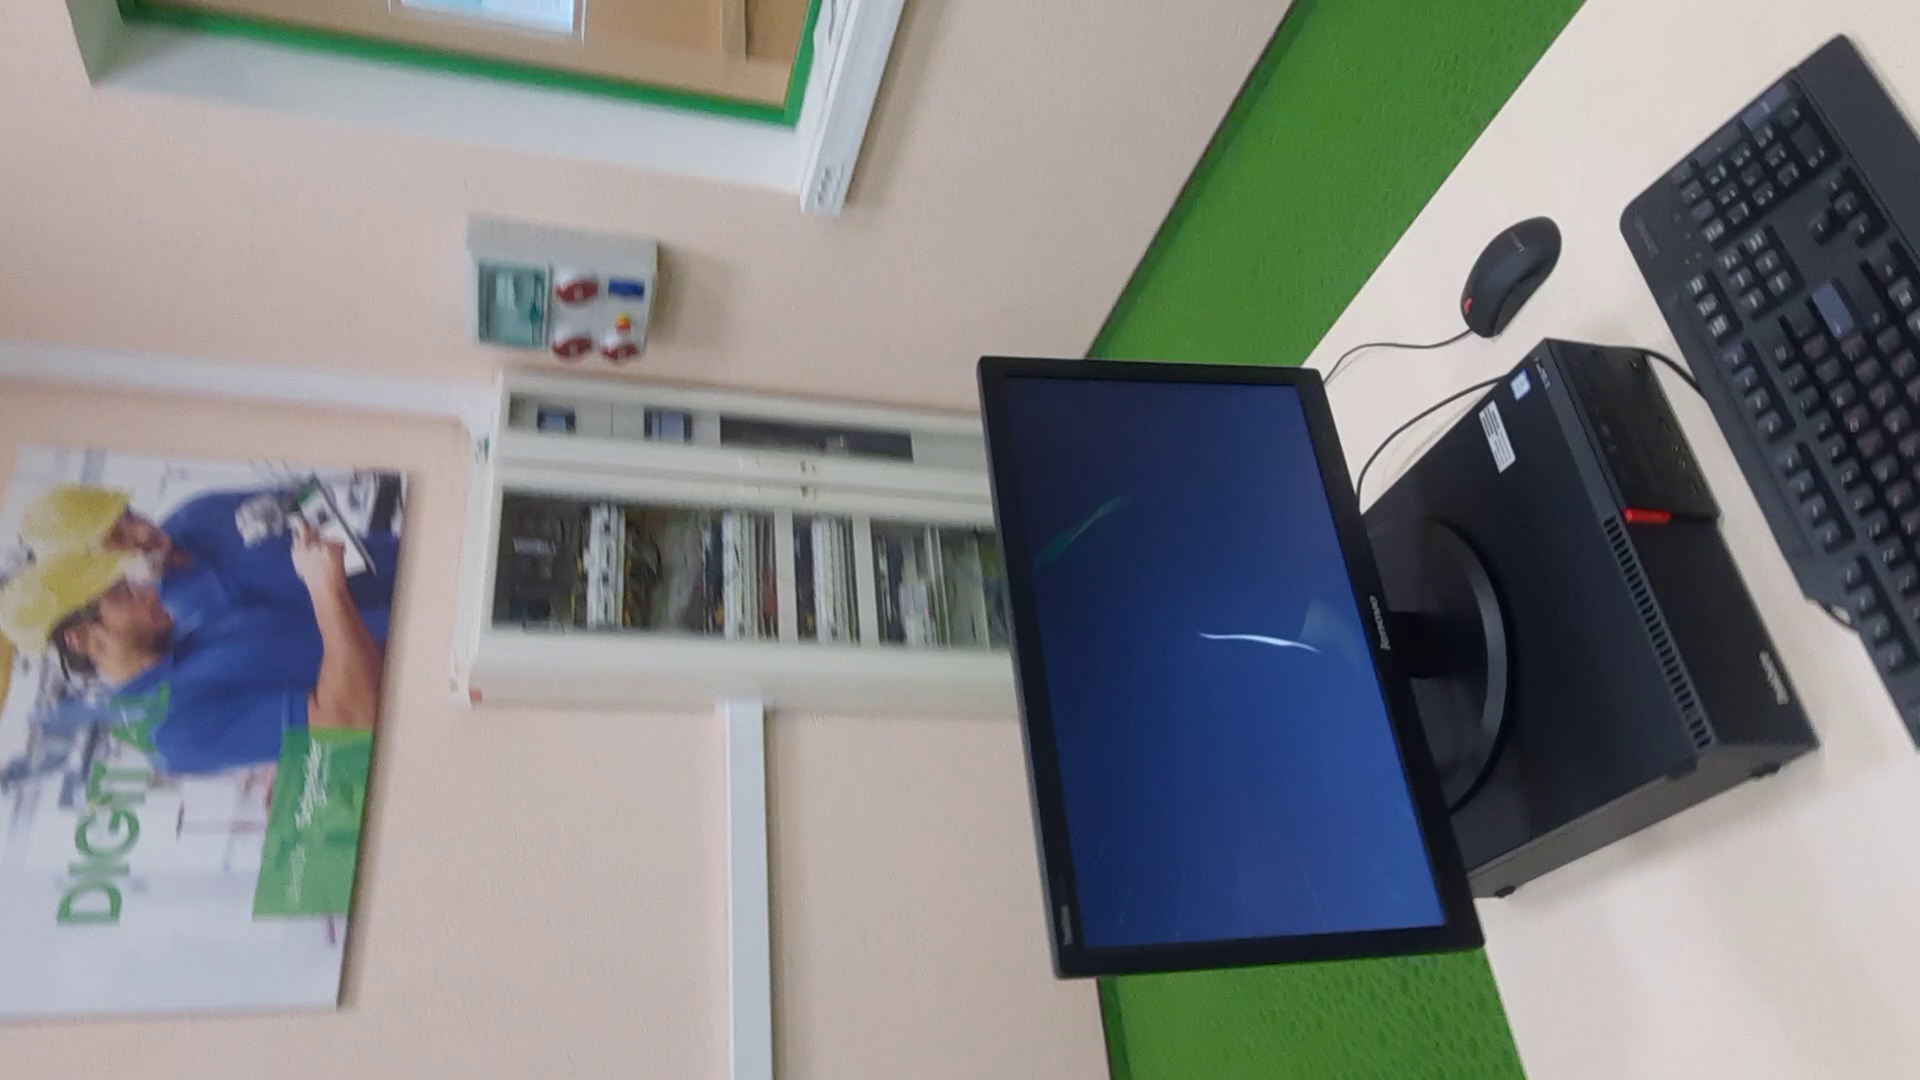stand1: (477, 371, 976, 707)
